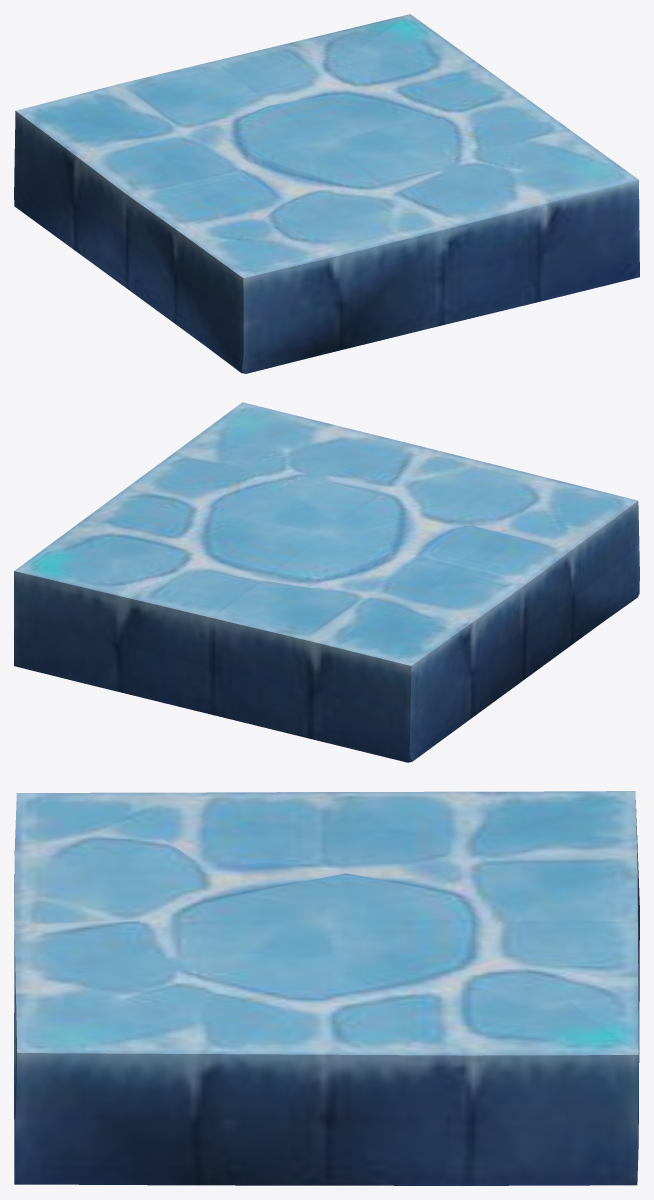
The model's file is b_givre_sol_2_lo.glb.
3 renders of one model, top to bottom at view 1: azimuth 30°, elevation 25°; view 2: azimuth 150°, elevation 25°; view 3: azimuth 270°, elevation 25°, orthographic. The views are drawn at different scales.
Parts seen in each view (by area): view 1: geometry_0; view 2: geometry_0; view 3: geometry_0.
Part boxes in pixels (<box>): geometry_0: <box>14,14,639,373</box>; geometry_0: <box>14,402,639,762</box>; geometry_0: <box>14,791,639,1185</box>.
Bounding box in the file's own units: 0.9985 × 0.2416 × 1.
Materials: 1 (1 with a texture image).
